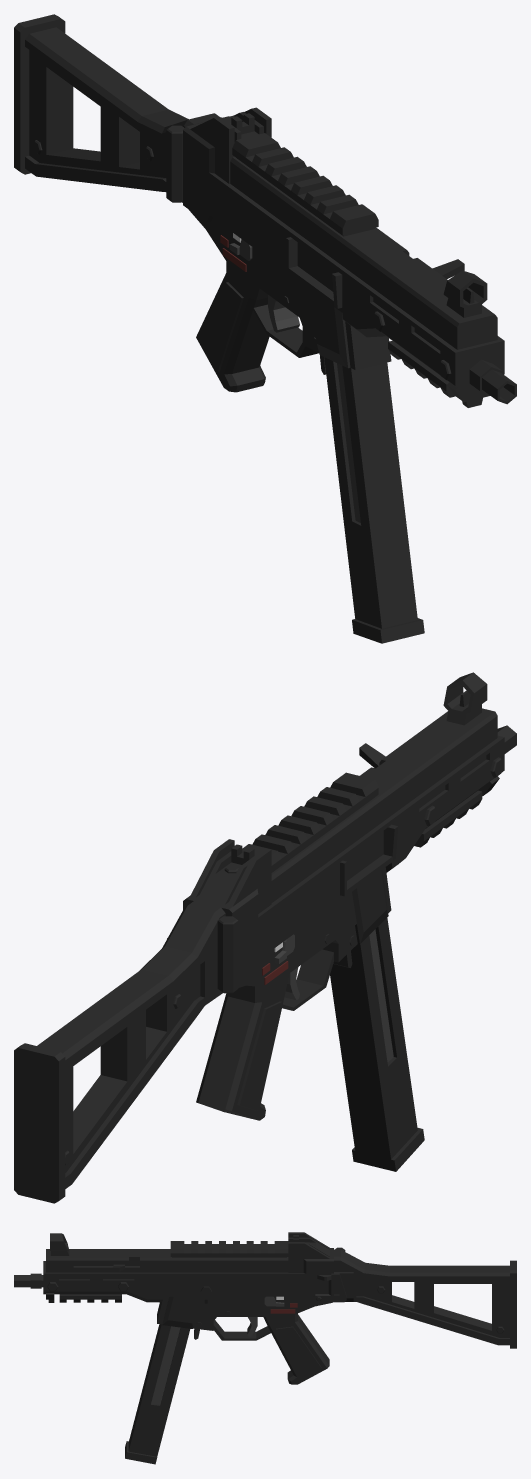
The model's file is SMG_C.fbx.
3 renders of one model, top to bottom at view 1: azimuth 30°, elevation 25°; view 2: azimuth 150°, elevation 25°; view 3: azimuth 270°, elevation 25°, orthographic. The views are drawn at different scales.
Visible parts, largest first — view 1: SMG_C_Receiver_Up, SMG_C_Stock, SMG_C_Mag, SMG_C_Receiver_Down, SMG_C_Sight_Back, SMG_C_Barrel, SMG_C_Trigger; view 2: SMG_C_Receiver_Up, SMG_C_Stock, SMG_C_Receiver_Down, SMG_C_Mag, SMG_C_Sight_Back; view 3: SMG_C_Receiver_Up, SMG_C_Stock, SMG_C_Receiver_Down, SMG_C_Mag, SMG_C_Sight_Back, SMG_C_Barrel.
Boxes of the visible parts, x1,y1,x2,y2 form: SMG_C_Receiver_Up: (183, 133, 504, 407); SMG_C_Stock: (14, 14, 218, 202); SMG_C_Mag: (324, 357, 424, 643); SMG_C_Receiver_Down: (189, 210, 391, 392); SMG_C_Sight_Back: (183, 107, 271, 183); SMG_C_Barrel: (469, 359, 516, 404); SMG_C_Trigger: (268, 295, 299, 332); SMG_C_Receiver_Up: (238, 672, 504, 983); SMG_C_Stock: (14, 901, 238, 1203); SMG_C_Receiver_Down: (196, 867, 391, 1120); SMG_C_Mag: (330, 918, 424, 1171); SMG_C_Sight_Back: (183, 839, 271, 931); SMG_C_Receiver_Up: (43, 1233, 346, 1302); SMG_C_Stock: (334, 1247, 516, 1348); SMG_C_Receiver_Down: (157, 1286, 332, 1384); SMG_C_Mag: (125, 1306, 190, 1464); SMG_C_Sight_Back: (288, 1232, 333, 1273); SMG_C_Barrel: (14, 1273, 43, 1288).
Bounding box in the file's own units: 0.0922 × 0.449 × 0.9075.
